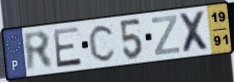5: (119, 16, 145, 62)
C: (87, 23, 118, 63)
E: (51, 25, 84, 70)
R: (22, 29, 56, 73)
X: (177, 9, 213, 55)
Z: (150, 13, 181, 57)
